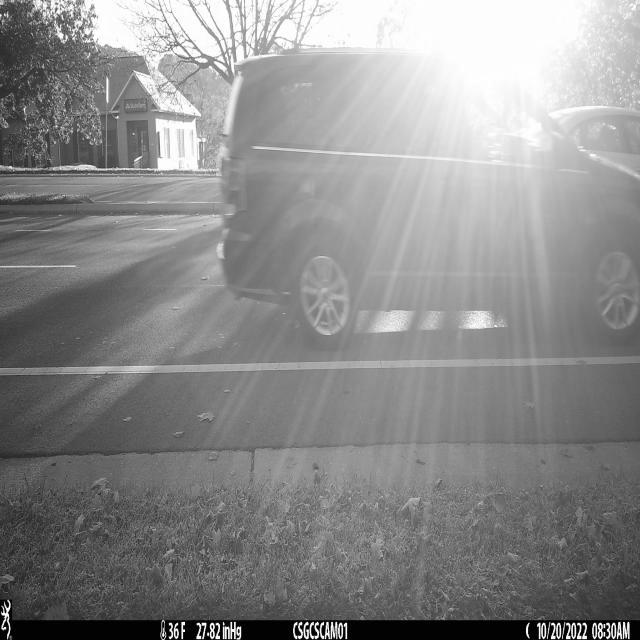SUV: (216, 47, 640, 337)
